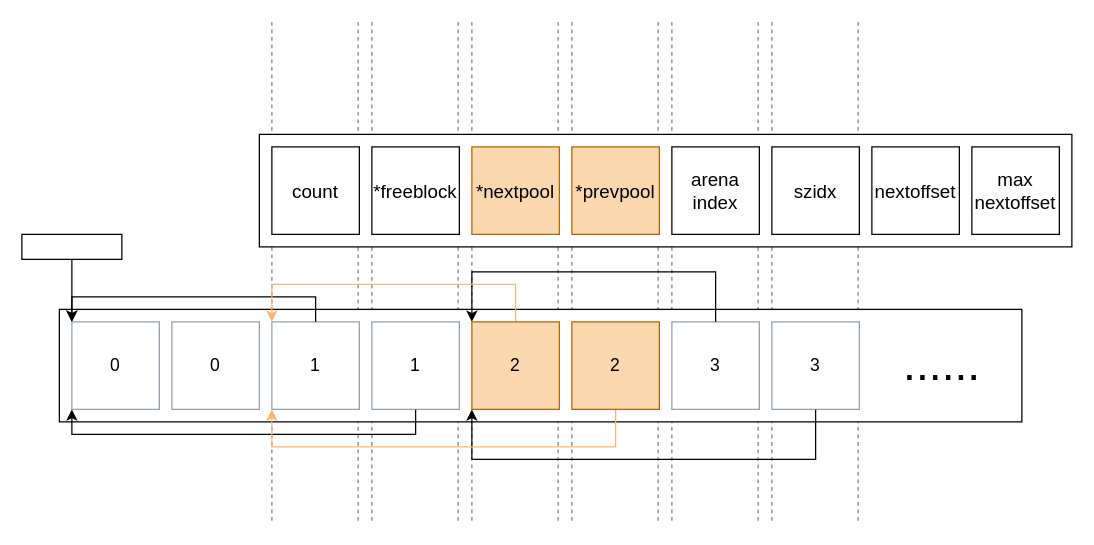
The diagram is 1094 pixels wide and 545 high, and some of its shapes have lost their labels. The shapes that lost their labels are listed below. From the top down, each one's box as (x1, y1, x2, y2) in pixels, then its label:
(258, 133, 1072, 247): pool_header
(21, 233, 122, 259): usedpools
